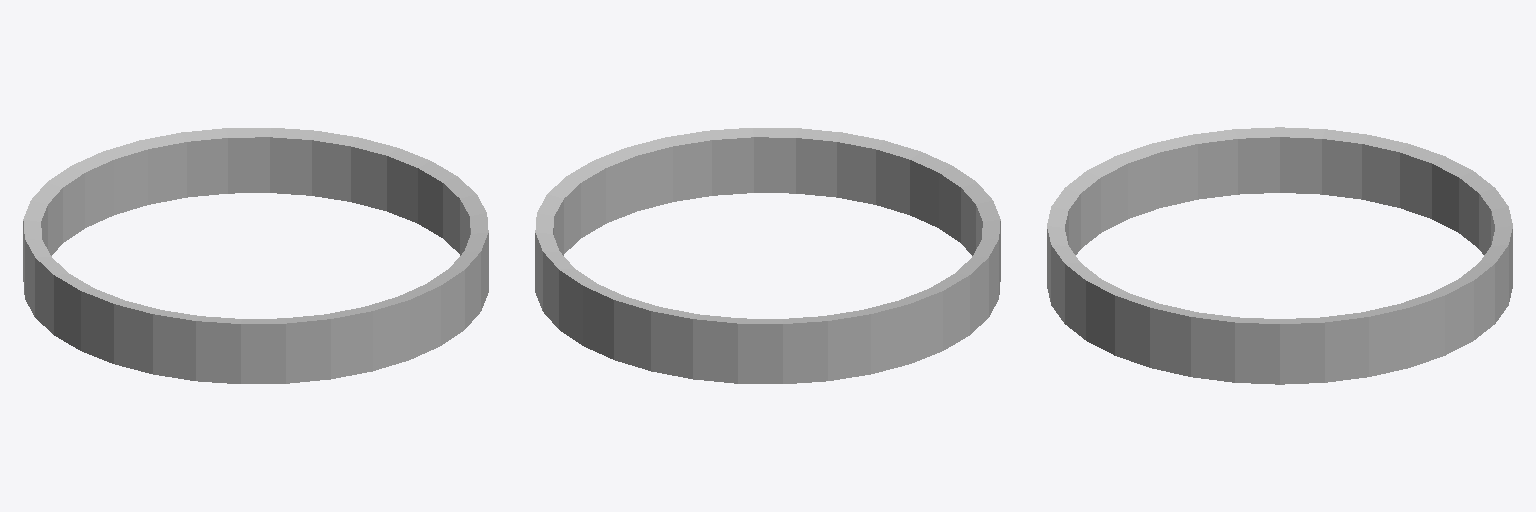
The model's file is ring.obj.
The picture shows the model from 3 angles: view 1: azimuth 30°, elevation 25°; view 2: azimuth 150°, elevation 25°; view 3: azimuth 270°, elevation 25°; orthographic projection.
Parts seen in each view (by area): view 1: 円; view 2: 円; view 3: 円.
Part boxes in pixels (bbox=[...]): 円: bbox=[23, 128, 488, 383]; 円: bbox=[535, 128, 1000, 383]; 円: bbox=[1047, 127, 1512, 384].
Bounding box in the file's own units: 0.7669 × 0.1094 × 0.7669.